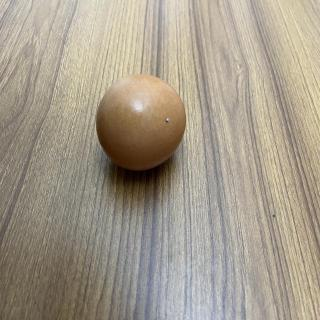Telur: (97, 74, 191, 174)
